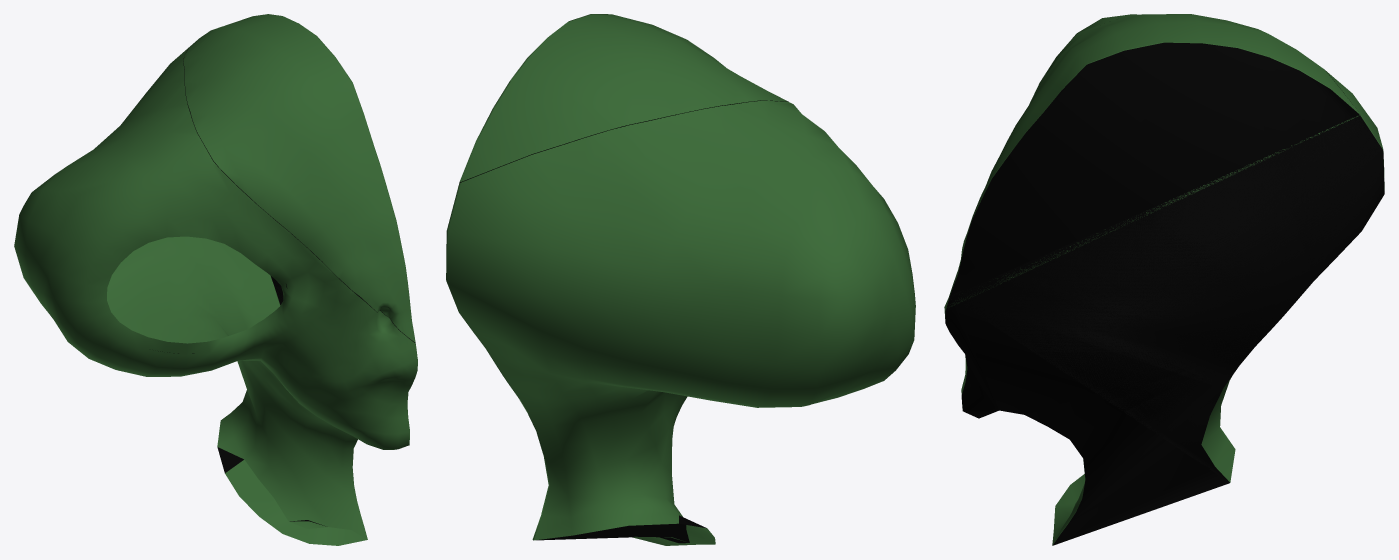
Rendered from alien3back-compressed.glb.
The picture shows the model from 3 angles, left to right: view 1: azimuth 30°, elevation 25°; view 2: azimuth 150°, elevation 25°; view 3: azimuth 270°, elevation 25°; orthographic projection. The views are drawn at different scales.
Parts seen in each view (by area): view 1: Object_3_cell.001; view 2: Object_3_cell.001; view 3: Object_3_cell.001.
Boxes of the visible parts, <box> form: Object_3_cell.001: <box>14,14,417,545</box>; Object_3_cell.001: <box>446,14,915,545</box>; Object_3_cell.001: <box>944,14,1384,545</box>.
Bounding box in the file's own units: 0.6461 × 1.05 × 0.8288.
